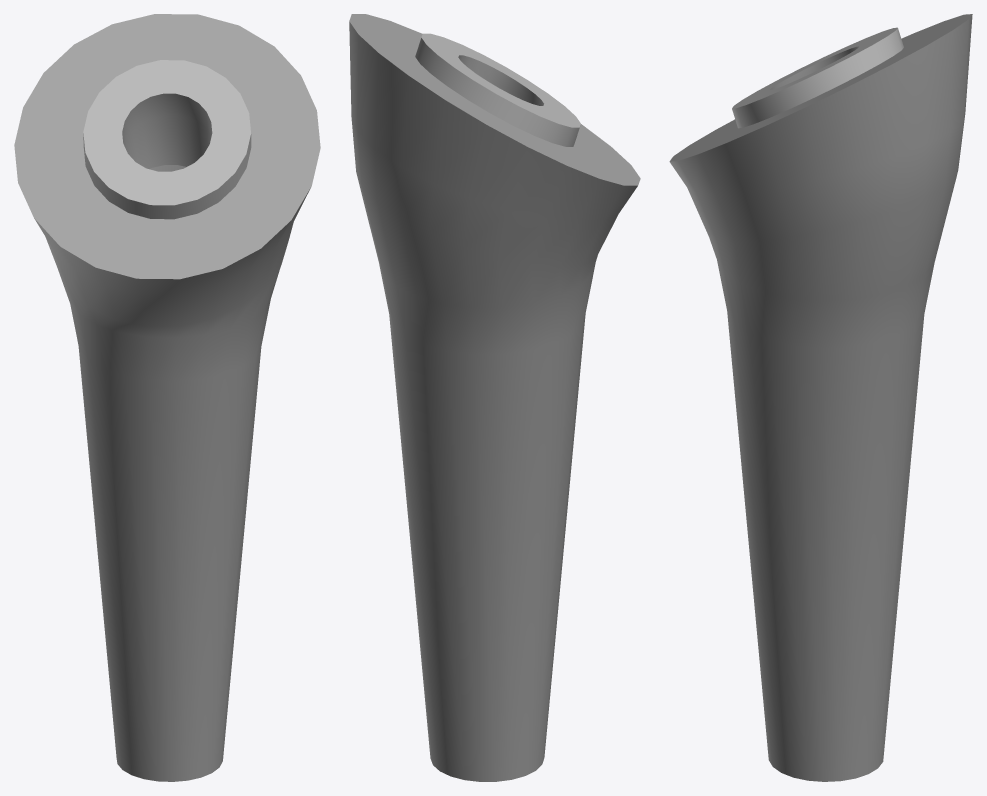
The model's file is -Fuel Rod Reciever-.fbx.
The picture shows the model from 3 angles, left to right: view 1: azimuth 30°, elevation 25°; view 2: azimuth 150°, elevation 25°; view 3: azimuth 270°, elevation 25°; orthographic projection. The views are drawn at different scales.
Visible parts, largest first — view 1: Fuel_Rod_Reciever.Main; view 2: Fuel_Rod_Reciever.Main; view 3: Fuel_Rod_Reciever.Main.
Boxes of the visible parts, x1,y1,x2,y2 form: Fuel_Rod_Reciever.Main: [14, 14, 320, 781]; Fuel_Rod_Reciever.Main: [349, 14, 640, 781]; Fuel_Rod_Reciever.Main: [669, 14, 972, 781].
Bounding box in the file's own units: 0.6033 × 1.57 × 0.5739.
